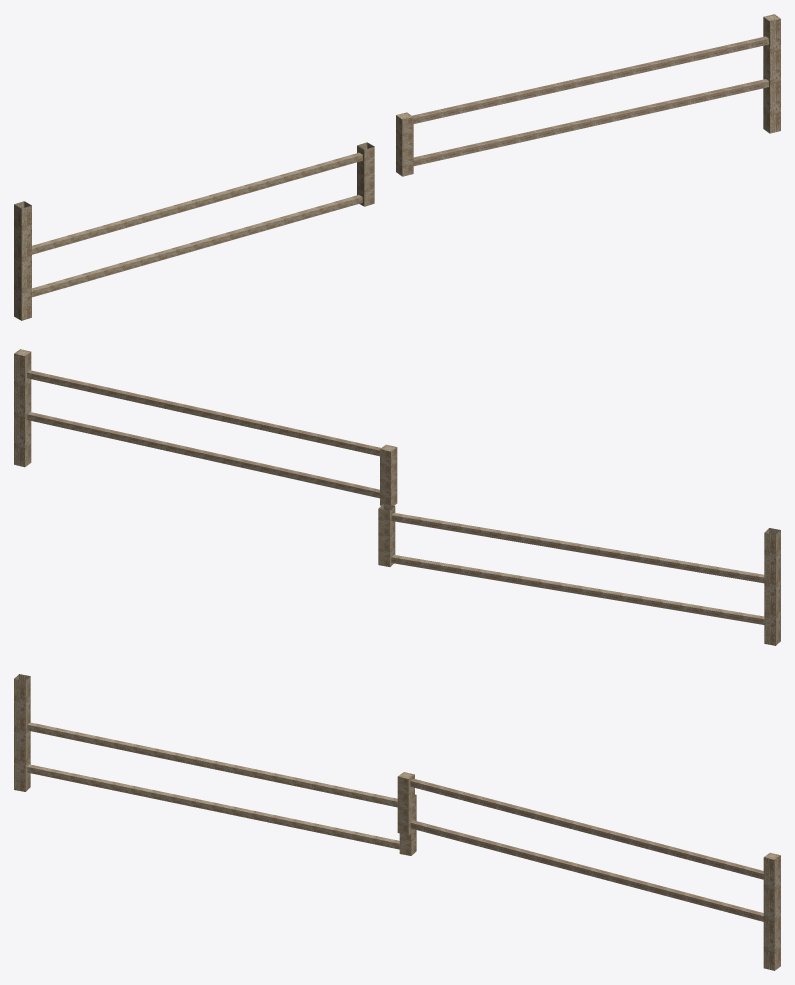
Rendered from gate.FBX.
3 renders of one model, top to bottom at view 1: azimuth 30°, elevation 25°; view 2: azimuth 150°, elevation 25°; view 3: azimuth 330°, elevation 25°, orthographic.
Parts seen in each view (by area): view 1: Object027, Object028; view 2: Object028, Object027; view 3: Object027, Object028.
Boxes of the visible parts, box(x1,y1,x2,y2) form: Object027: box(396, 14, 780, 176); Object028: box(14, 142, 374, 320); Object028: box(378, 504, 780, 645); Object027: box(14, 349, 397, 505); Object027: box(397, 772, 780, 970); Object028: box(14, 674, 416, 855).
Bounding box in the file's own units: 13.77 × 1.93 × 0.9552.
